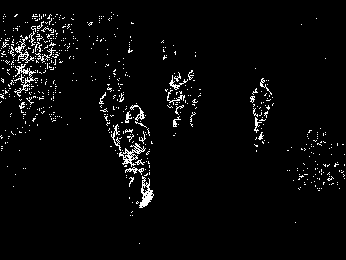person: (113, 105, 154, 209), (248, 76, 275, 151), (182, 70, 201, 128), (166, 71, 182, 129)
